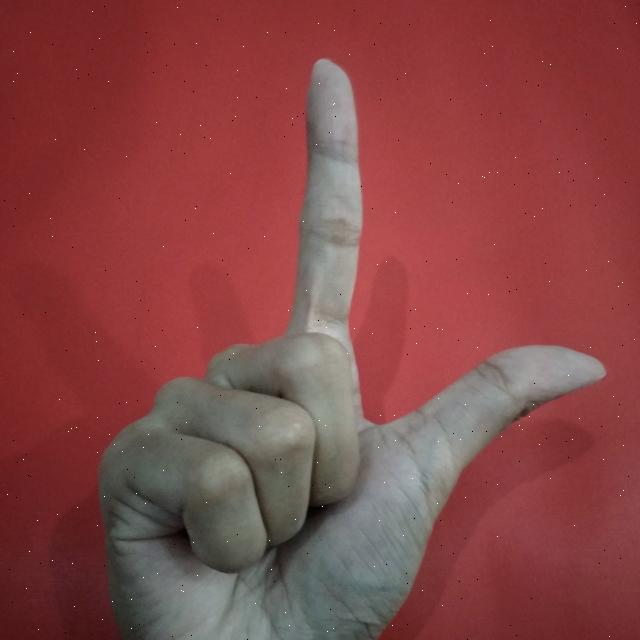L: (88, 48, 614, 640)
